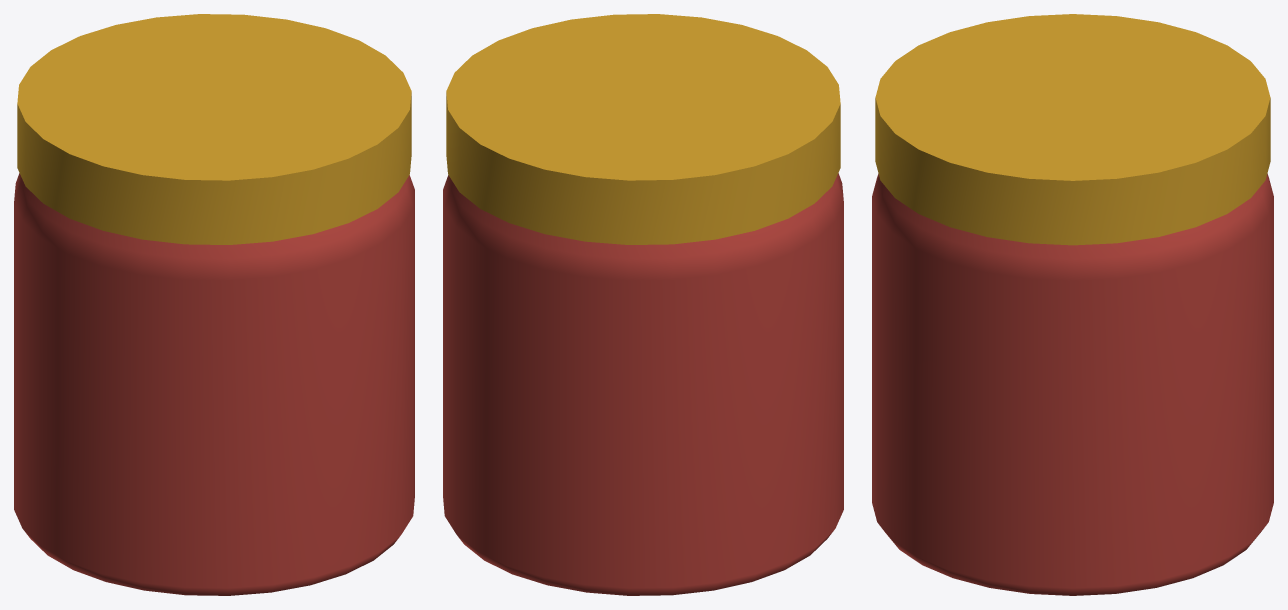
The model's file is jam_jar.glb.
3 renders of one model, left to right at view 1: azimuth 30°, elevation 25°; view 2: azimuth 150°, elevation 25°; view 3: azimuth 270°, elevation 25°, orthographic.
Visible parts, largest first — view 1: jam_jar; view 2: jam_jar; view 3: jam_jar.
Boxes of the visible parts, x1,y1,x2,y2 form: jam_jar: [14, 14, 414, 595]; jam_jar: [443, 14, 843, 595]; jam_jar: [872, 14, 1273, 595].
Bounding box in the file's own units: 0.0785 × 0.09 × 0.0785.
